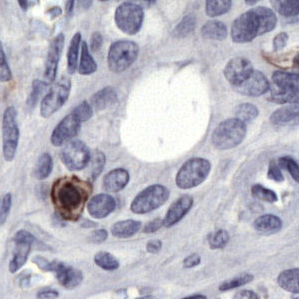Lymphocyte: (50, 175, 91, 220)
